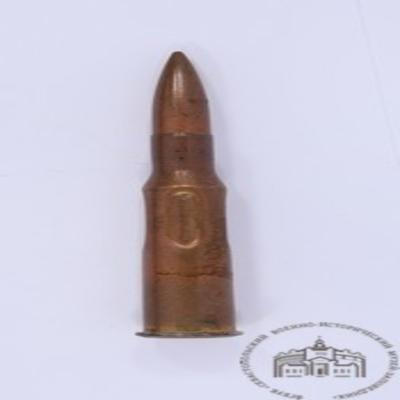weapon: (136, 51, 241, 339)
